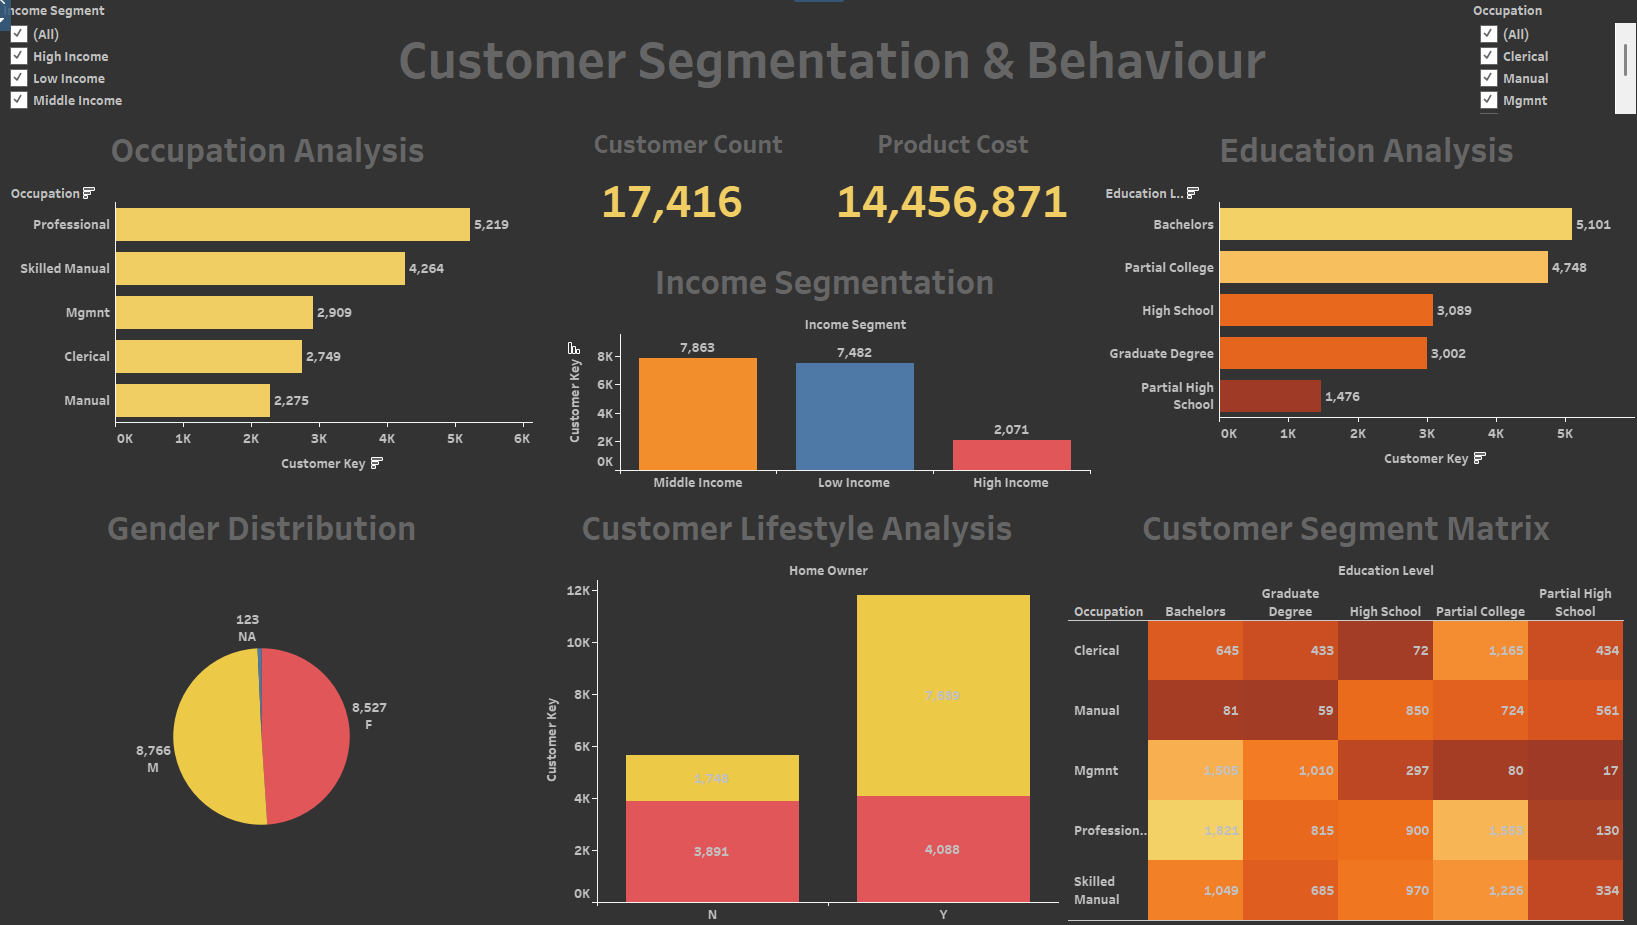

Layout of this report page (visuals, bound fields, positions):
{"tool":"tableau","page":{"name":"Customer Segmentation & Behaviour","canvas":[1000,1000],"units":"permille","ordinal":0},"visuals":[{"type":"filter","title":"Income Segmentation","param":"[federated.1hjuwdg0d7bzxl14a3a6u0hg4tcx].[none:Calculation_736620077974446088:nk","box":[4.8,8.4,118.2,127.7]},{"type":"text","box":[123.1,8.4,768.8,127.7]},{"type":"filter","title":"Occupation Analysis","param":"[federated.1hjuwdg0d7bzxl14a3a6u0hg4tcx].[none:Occupation:nk]","box":[891.9,8.4,103.2,127.7]},{"type":"worksheet","title":"Occupation Analysis","mark":"Automatic","rows":["Occupation"],"cols":["CustomerKey"],"box":[4.8,136.2,334.9,399.2]},{"type":"worksheet","title":"Customer Count","mark":"Automatic","box":[339.7,136.2,159.9,139.4]},{"type":"worksheet","title":"Product Cost","mark":"Automatic","box":[499.7,136.2,166.6,139.4]},{"type":"worksheet","title":"Education Analysis","mark":"Automatic","rows":["EducationLevel"],"cols":["CustomerKey"],"box":[666.2,136.2,328.9,399.2]},{"type":"worksheet","title":"Income Segmentation","mark":"Automatic","rows":["CustomerKey"],"cols":["Calculation_736620077974446088"],"box":[339.7,275.6,326.5,259.8]},{"type":"worksheet","title":"Gender Distribution","mark":"Pie","box":[4.8,535.3,321.3,456.2]},{"type":"worksheet","title":"Customer Lifestyle Analysis","mark":"Automatic","rows":["CustomerKey"],"cols":["HomeOwner"],"box":[326.1,535.3,321.4,456.2]},{"type":"worksheet","title":"Customer Segment Matrix","mark":"Square","rows":["Occupation"],"cols":["EducationLevel"],"box":[647.5,535.3,347.7,456.2]}]}

Visuals, with their boxes on the dashboard's canvas, which has no fixed pixel size, in thousandths of its width and height (x1, y1, x2, y2). These are canvas units, not pixel positions in the 1637x925 screenshot, which may show the page scaled, cropped or inside an application window:
"Income Segmentation" filter: select_region(5, 8, 123, 136)
text: select_region(123, 8, 892, 136)
"Occupation Analysis" filter: select_region(892, 8, 995, 136)
"Occupation Analysis" worksheet: select_region(5, 136, 340, 535)
"Customer Count" worksheet: select_region(340, 136, 500, 276)
"Product Cost" worksheet: select_region(500, 136, 666, 276)
"Education Analysis" worksheet: select_region(666, 136, 995, 535)
"Income Segmentation" worksheet: select_region(340, 276, 666, 535)
"Gender Distribution" worksheet (Pie marks): select_region(5, 535, 326, 992)
"Customer Lifestyle Analysis" worksheet: select_region(326, 535, 648, 992)
"Customer Segment Matrix" worksheet (Square marks): select_region(648, 535, 995, 992)
